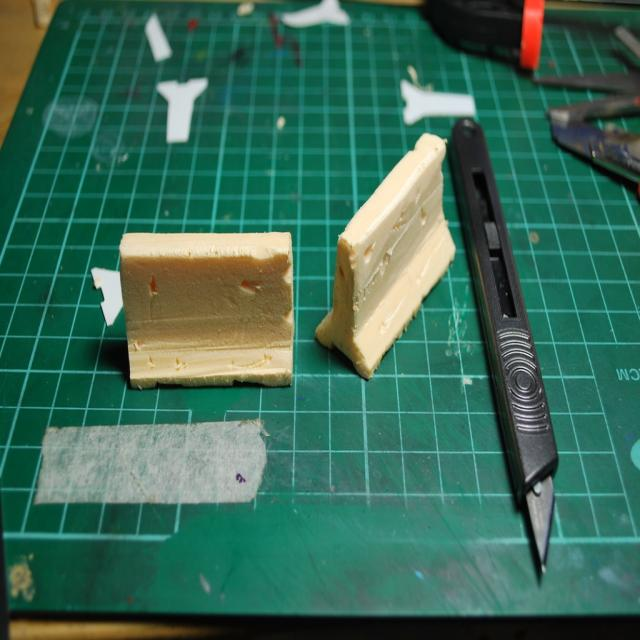Cheese: (312, 130, 458, 379), (118, 231, 292, 388)
